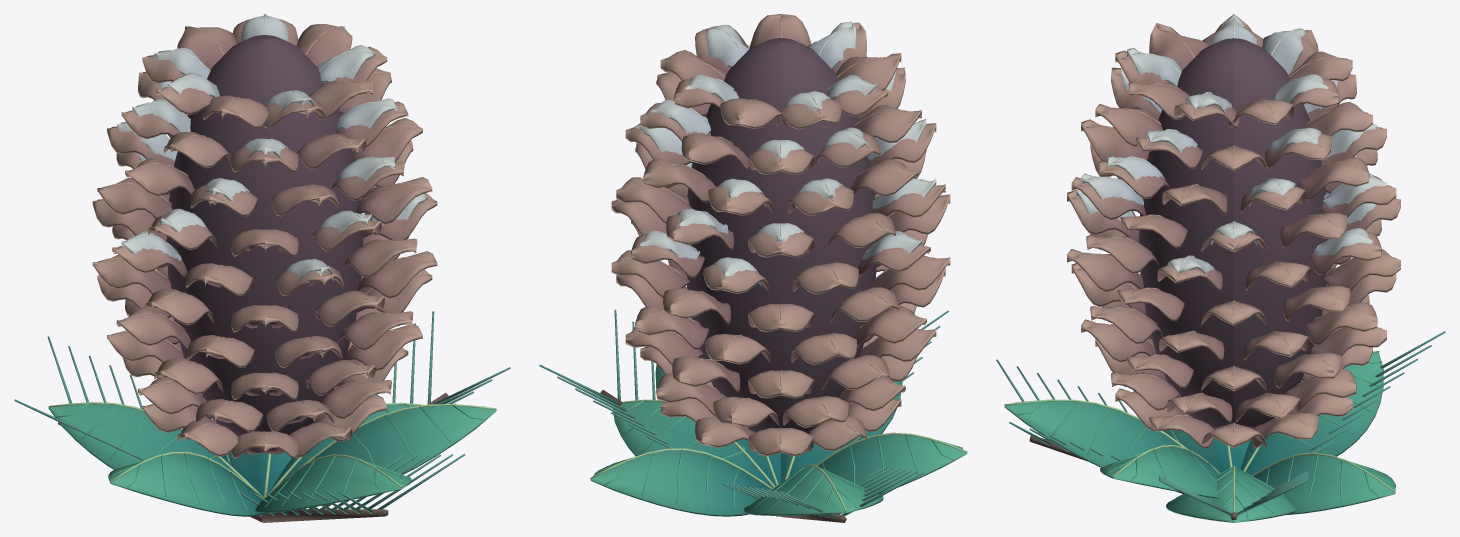
Rendered from enchanted-pinecone.glb.
3 views of the same model, side by side, from view 1: azimuth 30°, elevation 25°; view 2: azimuth 150°, elevation 25°; view 3: azimuth 270°, elevation 25° (orthographic). The views are drawn at different scales.
Visible parts, largest first — view 1: enchanted-pinecone-sculpted-details; view 2: enchanted-pinecone-sculpted-details; view 3: enchanted-pinecone-sculpted-details.
Boxes of the visible parts, x1,y1,x2,y2 form: enchanted-pinecone-sculpted-details: [14, 14, 510, 522]; enchanted-pinecone-sculpted-details: [539, 14, 967, 522]; enchanted-pinecone-sculpted-details: [996, 14, 1445, 522].
Bounding box in the file's own units: 0.8791 × 1 × 0.871.
